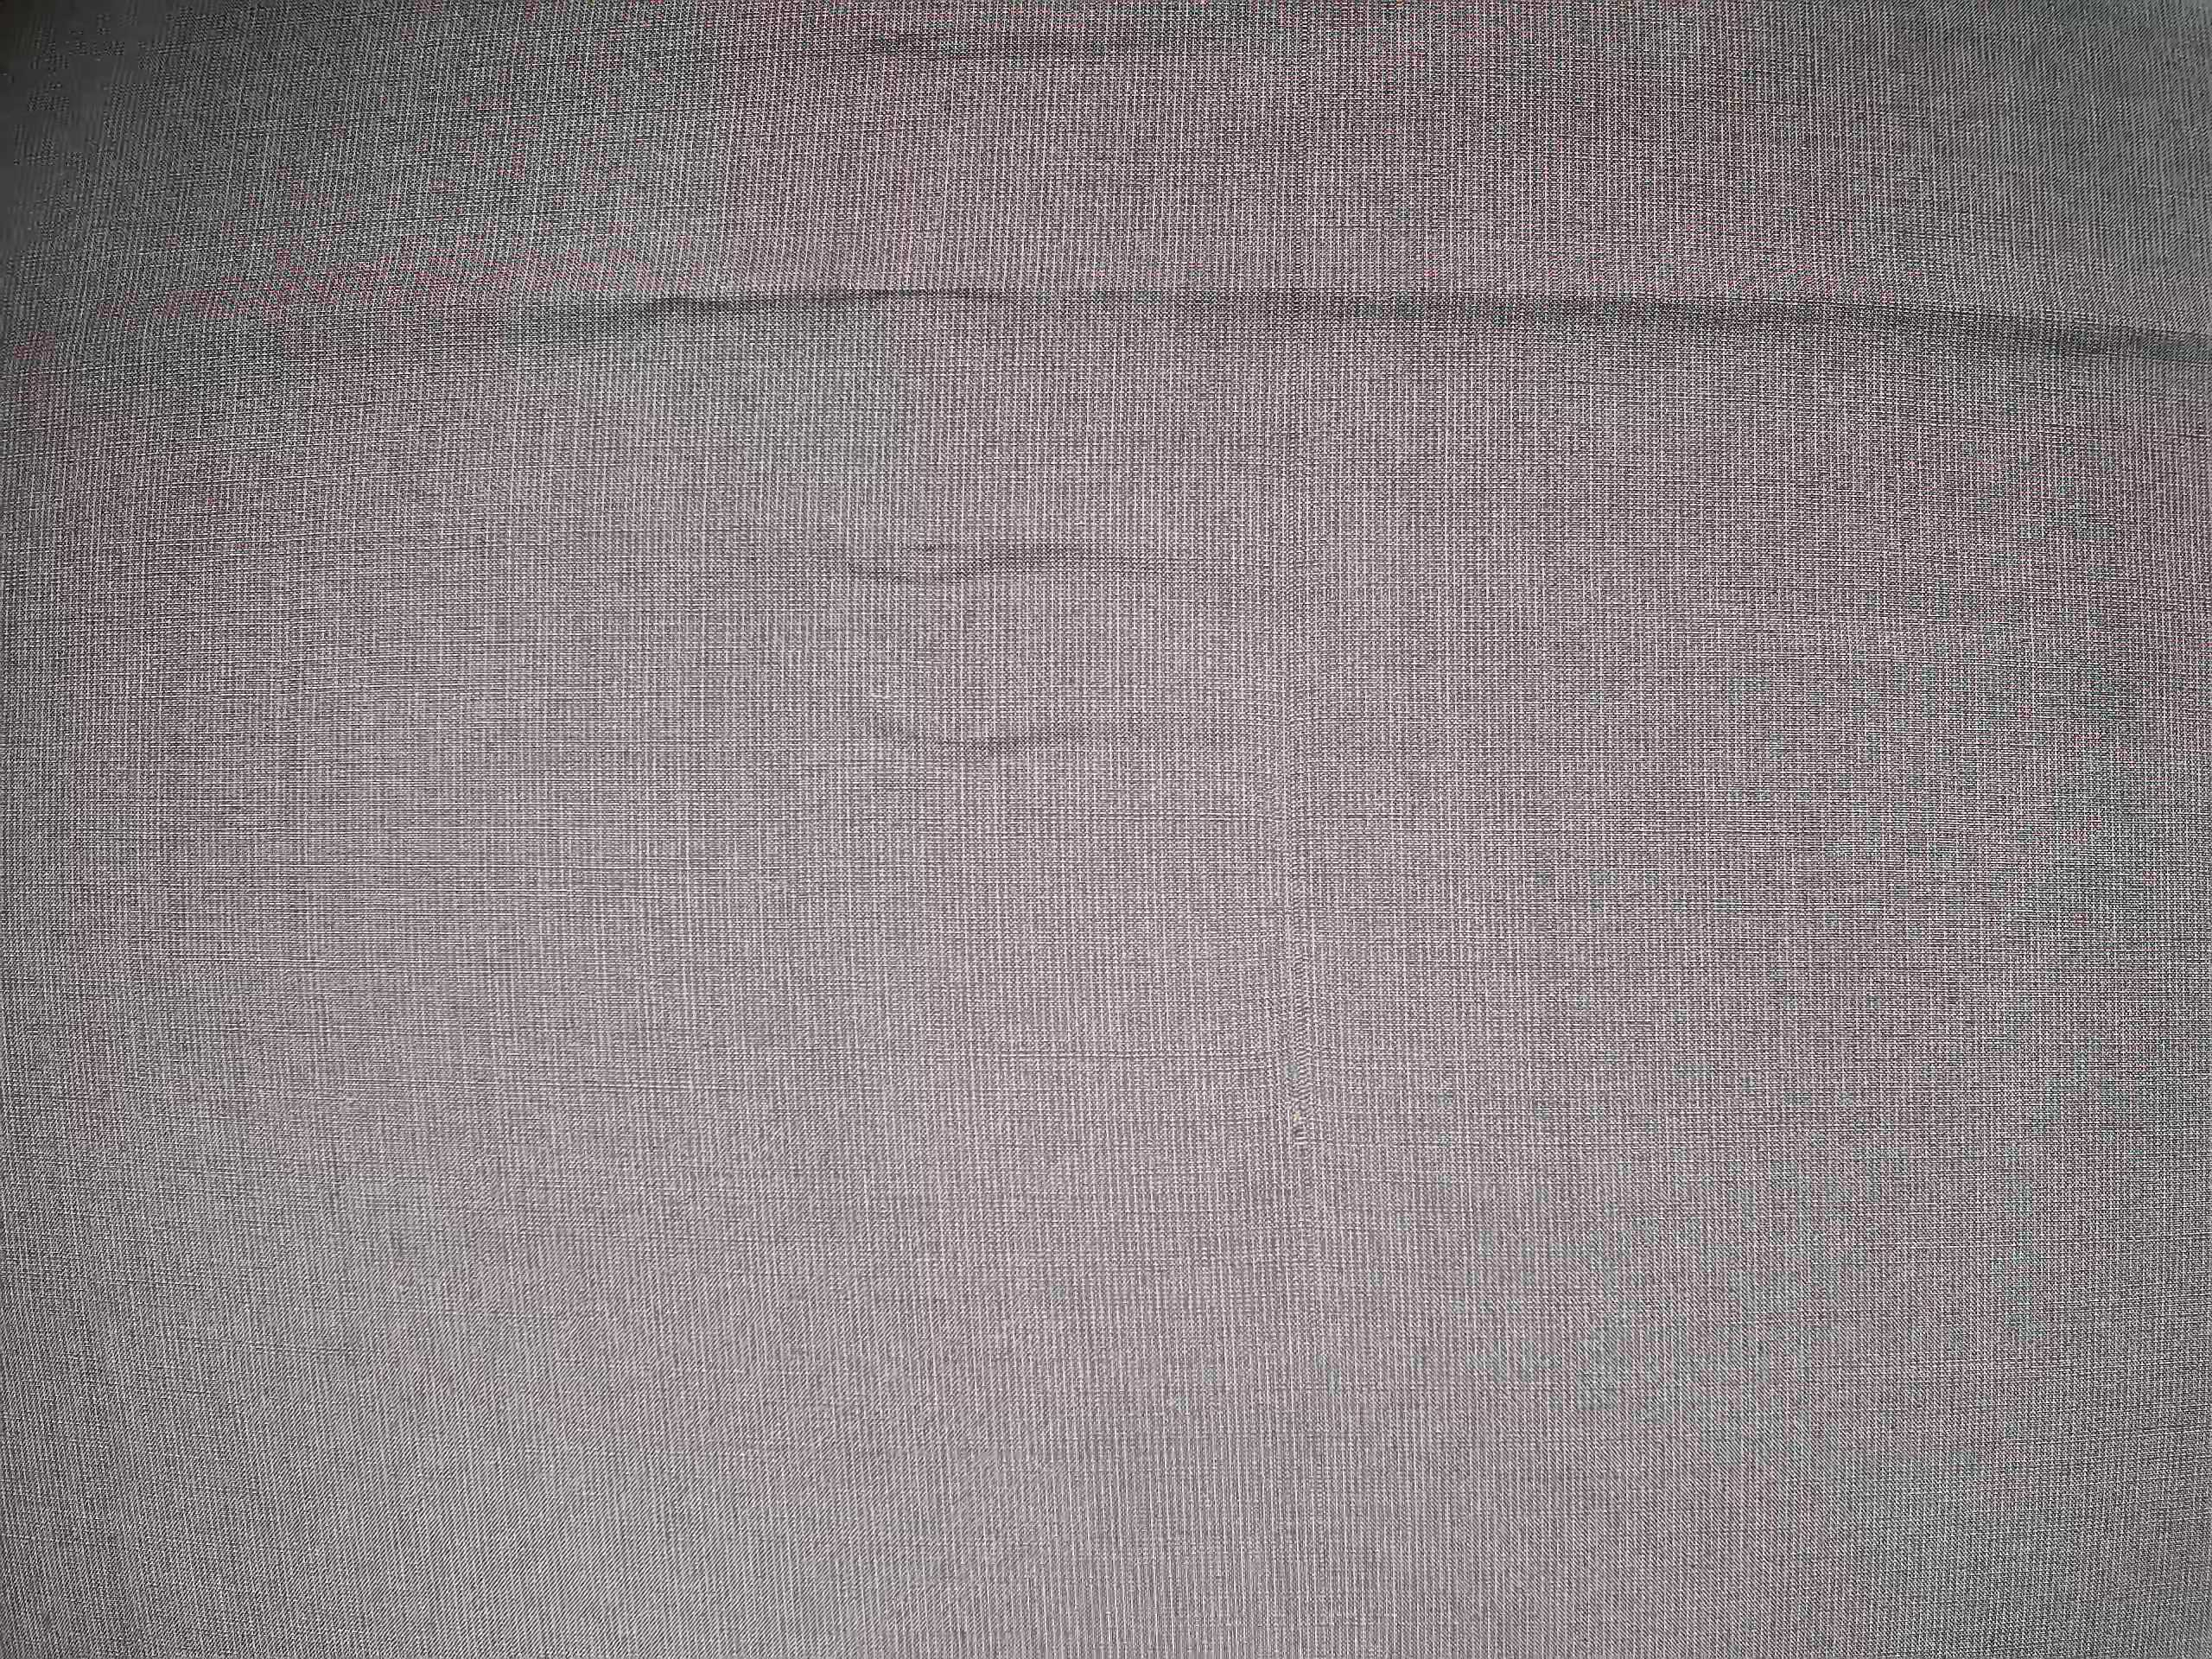others: (1277, 706, 1317, 1180)
